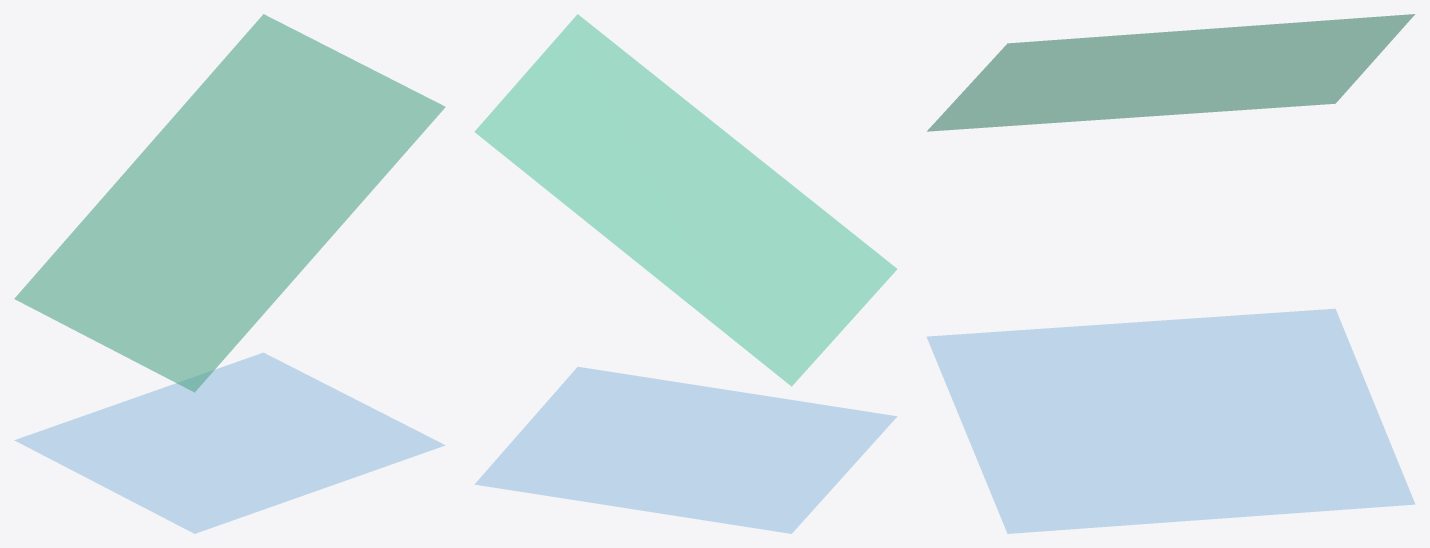
The model's file is p_ex2_retangulo.glb.
The picture shows the model from 3 angles, left to right: view 1: azimuth 30°, elevation 25°; view 2: azimuth 150°, elevation 25°; view 3: azimuth 270°, elevation 25°; orthographic projection. The views are drawn at different scales.
Bounding box in the file's own units: 4.6 × 4.67 × 4.22.
